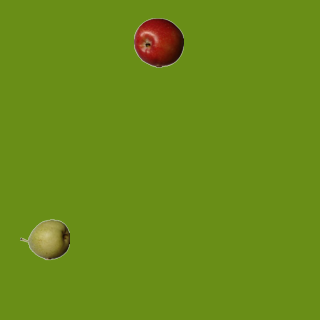Apple Braeburn: (133, 17, 183, 67)
Pear: (19, 214, 69, 264)
